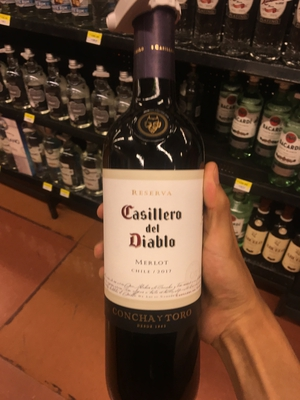casillero del diablo merlot: (97, 24, 207, 400)
